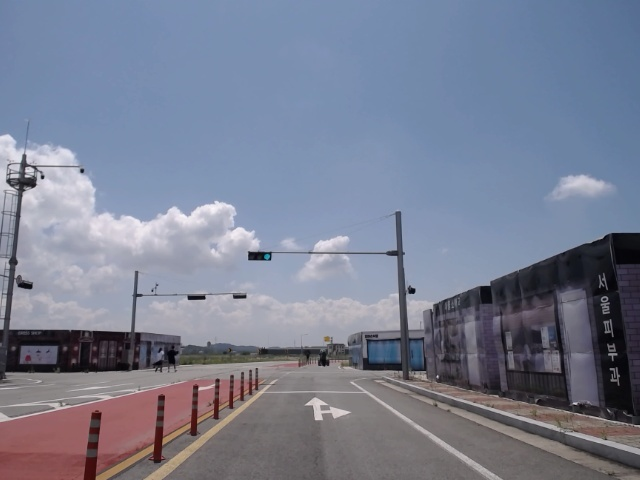green_3: (249, 251, 271, 260)
